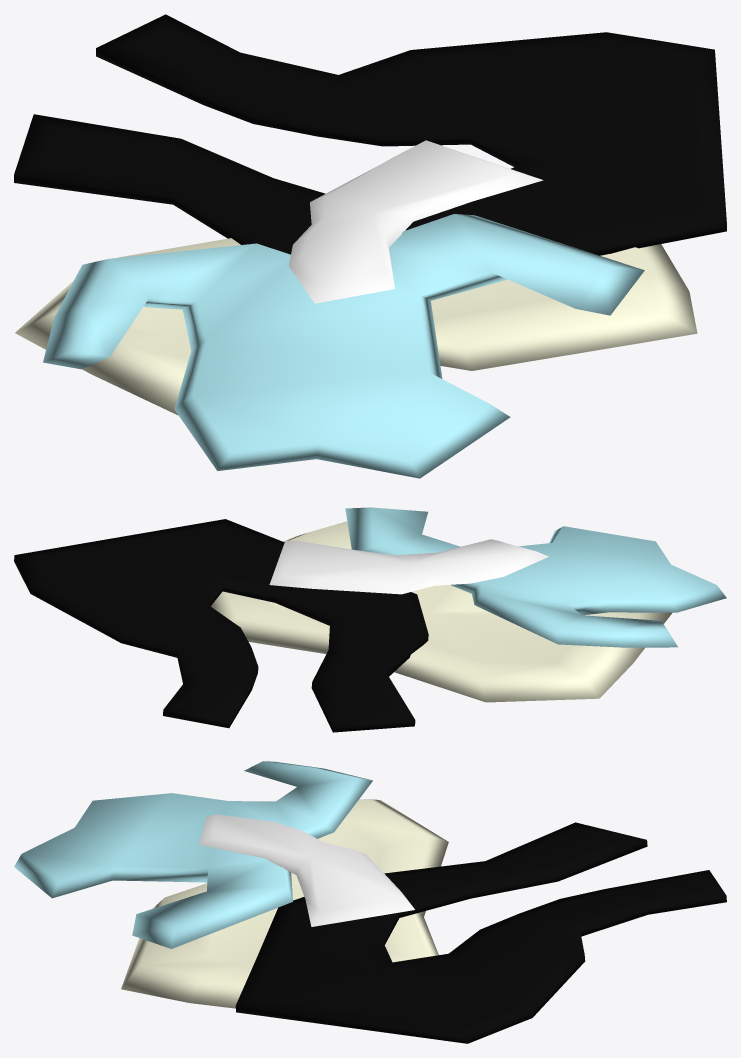
The model's file is clothpile.fbx.
3 renders of one model, top to bottom at view 1: azimuth 30°, elevation 25°; view 2: azimuth 150°, elevation 25°; view 3: azimuth 270°, elevation 25°, orthographic. The views are drawn at different scales.
Parts seen in each view (by area): view 1: Line011; view 2: Line011; view 3: Line011.
Boxes of the visible parts, x1,y1,x2,y2 form: Line011: [14, 14, 726, 478]; Line011: [14, 507, 726, 732]; Line011: [14, 761, 726, 1043].
Size of the model in its own units: 137 by 14.07 by 139.
